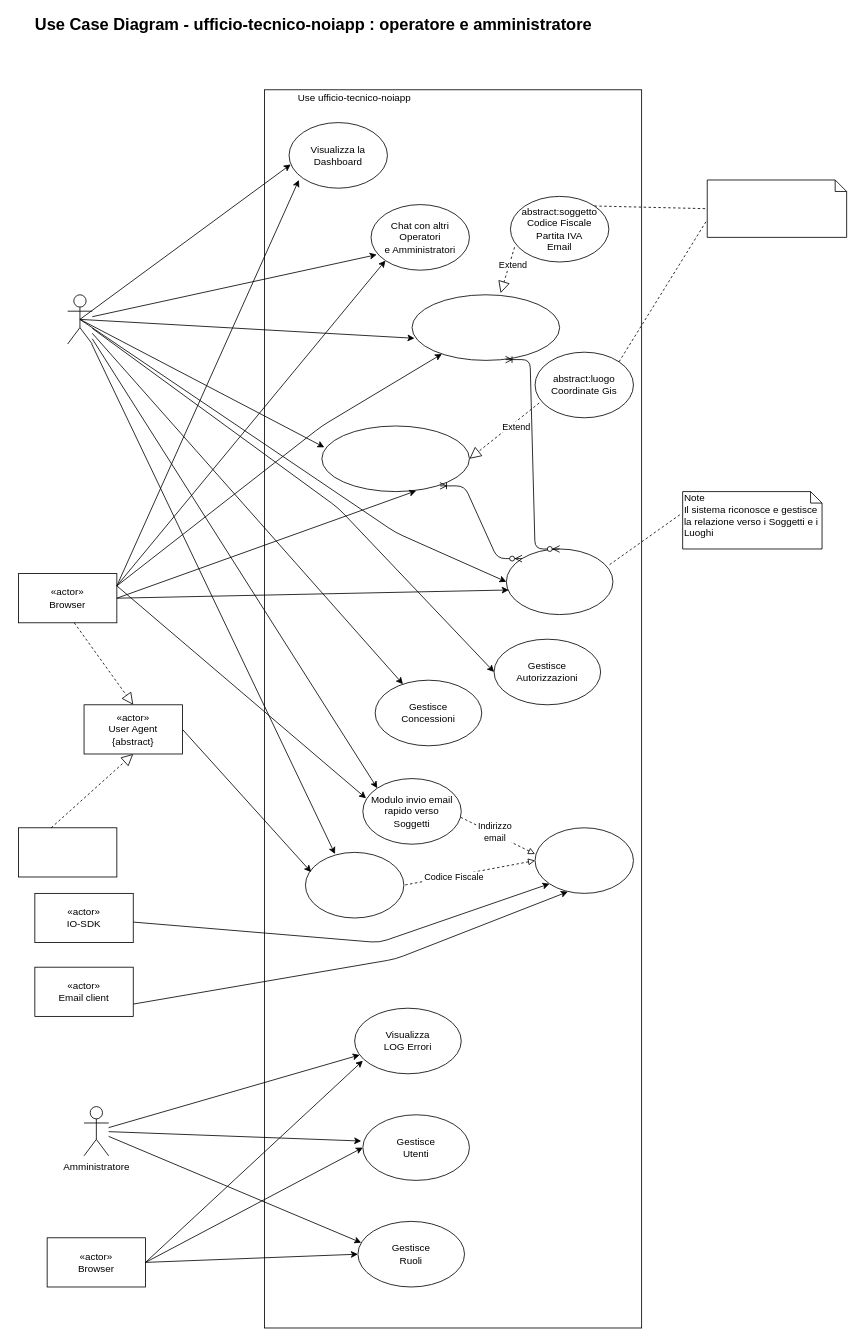
Some shapes in this 861 by 1342 pixel diagram are drawn without their labels. Each missing label, with the centre of its shape:
Gestisce Entità accessorie a Luoghi e Soggetti: [559,581]
Gestisce luoghi-like: es.: Aziende Cave Stabilimenti: [395,458]
Gestisce soggetto-like: es.: Soggetti Esercienti Aziende: [485,327]
Note Il sistema riconosce e gestisce diversamente le entità di questo tipo: [776,208]
Operatore: [79,319]
Scrive o importa messaggio per App IO verso Soggetti: [354,885]
Send message to Soggetto: [583,860]
«actor» Job Schedulato: [67,852]
